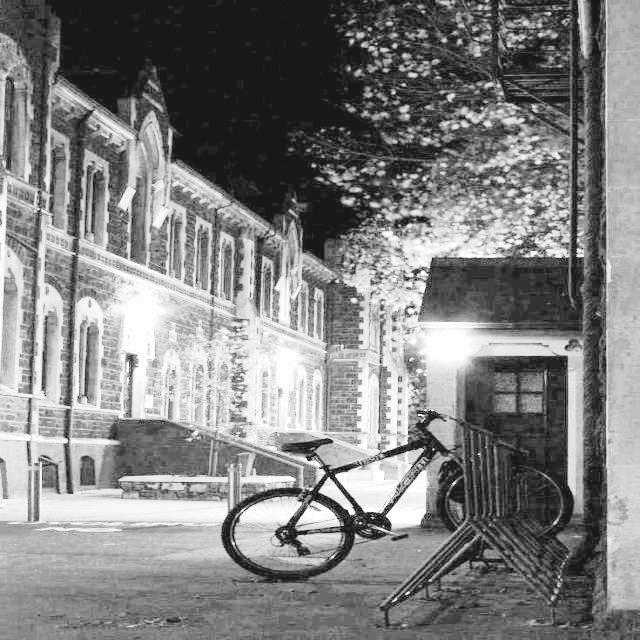Bicycle: (186, 402, 553, 595)
